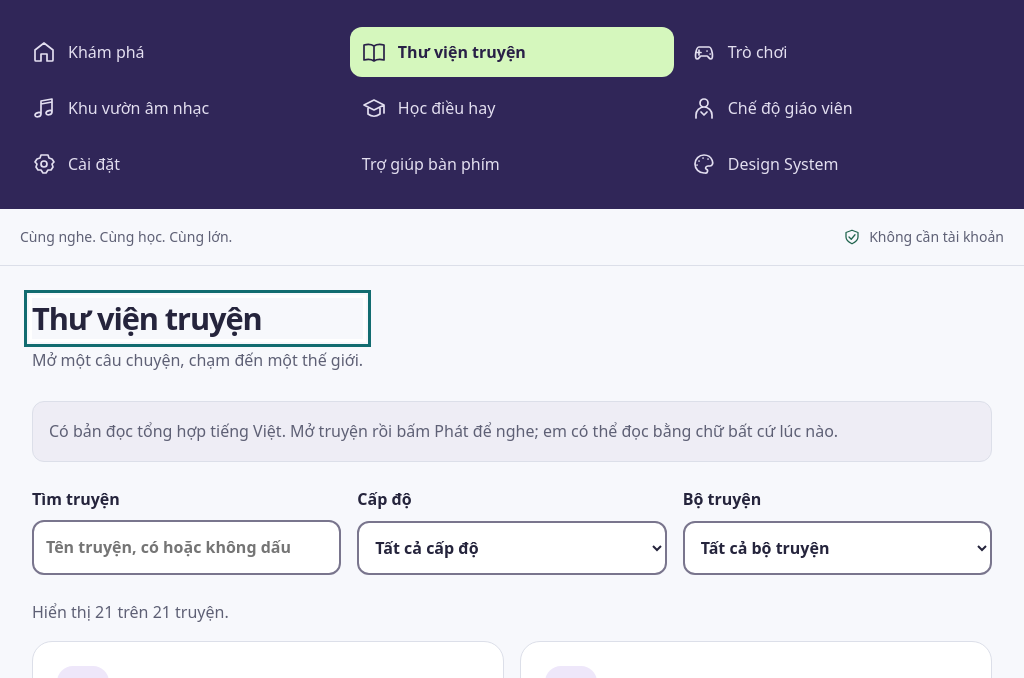
it: story library and reading routes › renders all stories and filters them without treating missing recordings as missing stories
Expected: the text "Có bản đọc tổng hợp tiếng Việt" is shown, [49,420,838,442]
Step 1. Select "Truyện dân gian và kinh điển kể lại" in the dropdown labelled "Bộ truyện" → (837,548), box [683,521,992,575]
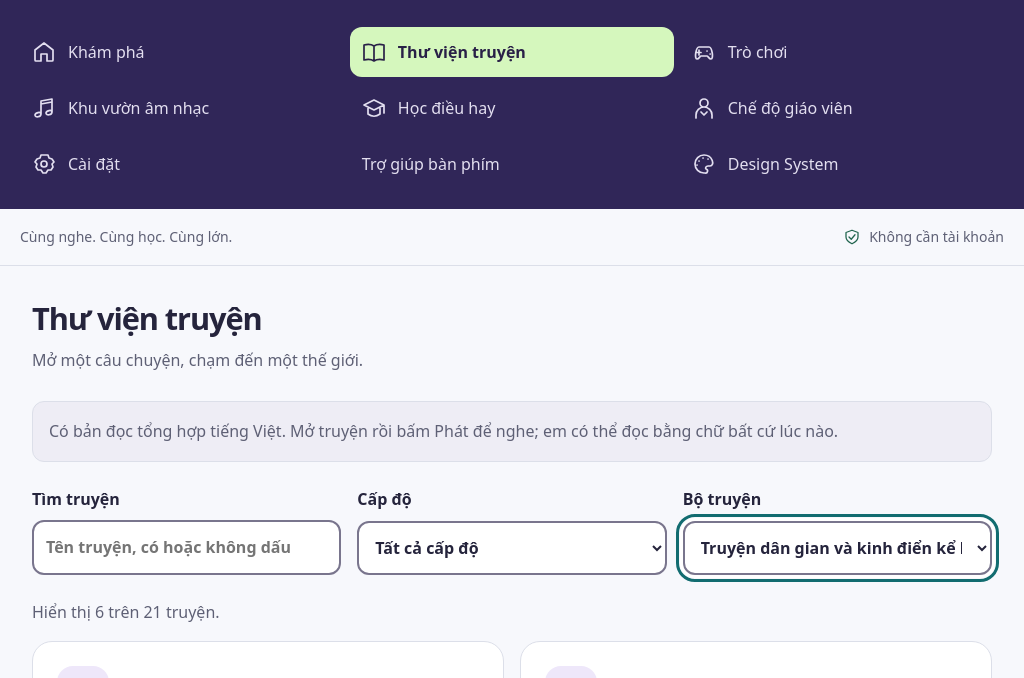
Step 2. Select "Cấp 3: Suy luận" in the dropdown labelled "Cấp độ" → (512,548), box [357,521,667,575]
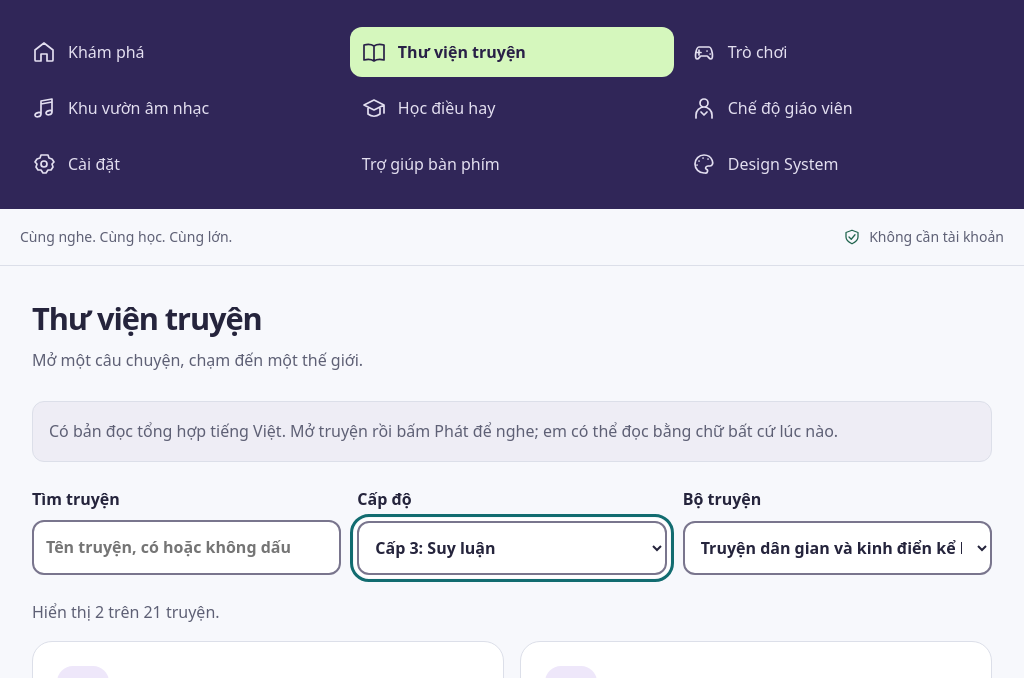
Step 3. Type "trang quynh" into the search field labelled "Tìm truyện" → (187,547), box [32,520,341,575]
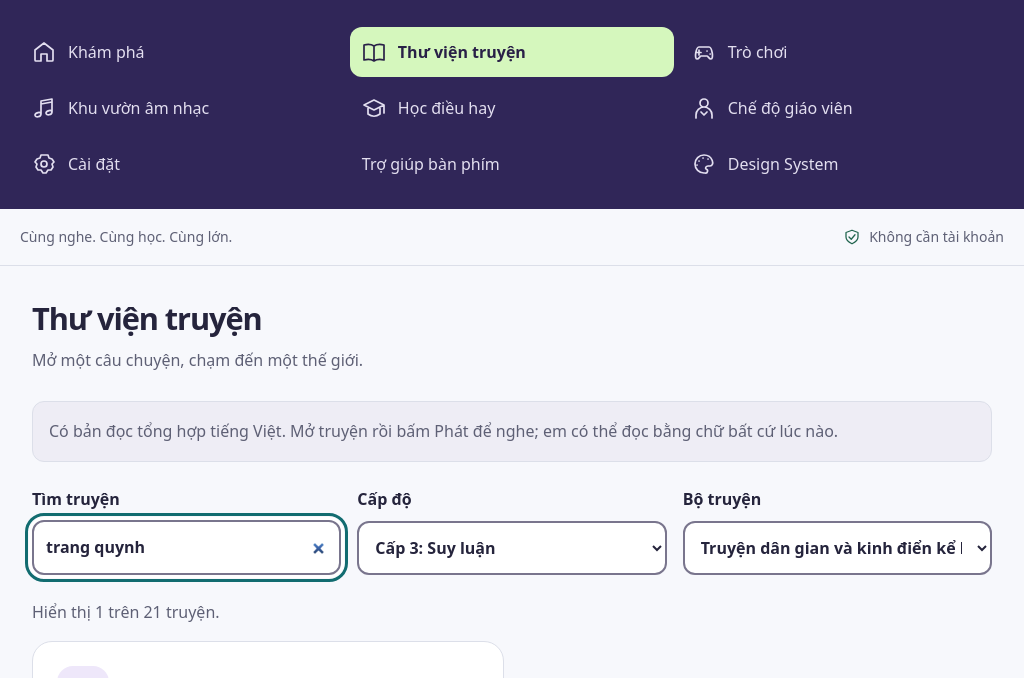
Step 4. Replace the text in the search field labelled "Tìm truyện" with "khong co ten nay" → (187,547), box [32,520,341,575]
(page scrolled)
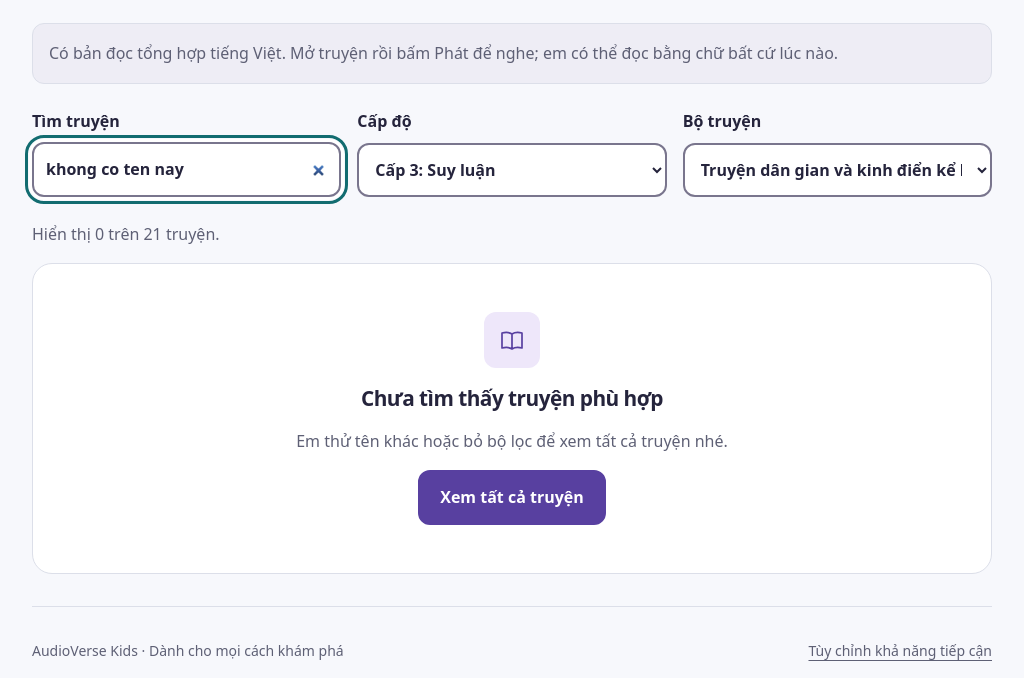
Expected: the heading "Chưa tìm thấy truyện phù hợp" is shown, [361,384,663,412]
Step 5. Click the button "Xem tất cả truyện" → (512,498), box [418,470,606,525]
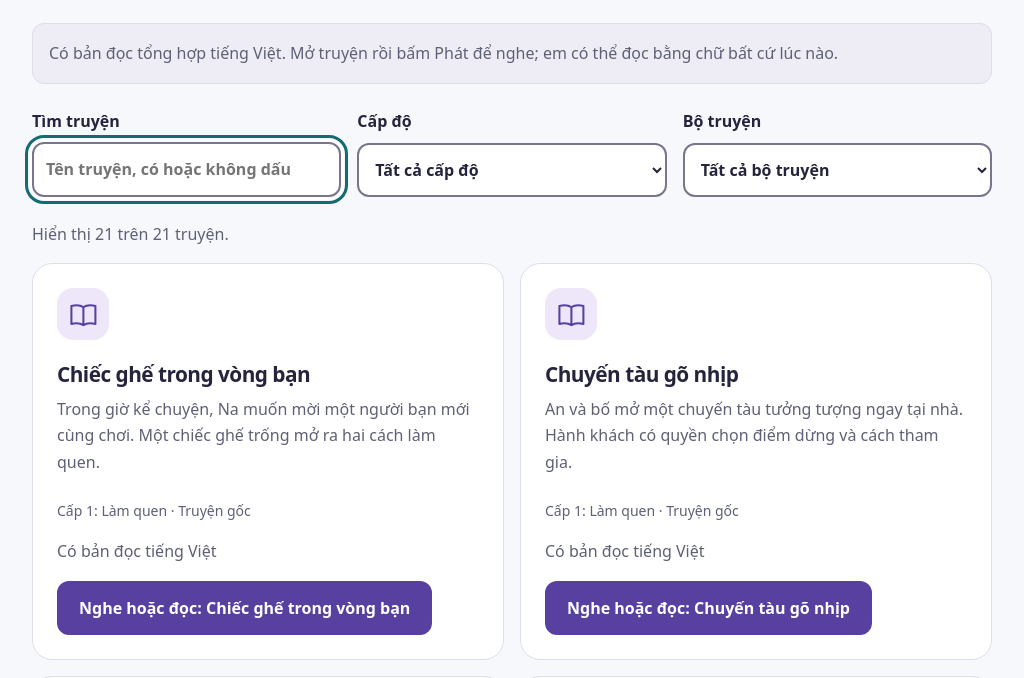
Expected: the number of links "Nghe hoặc đọc: Chiếc ghế trong vòng bạn" is 21
